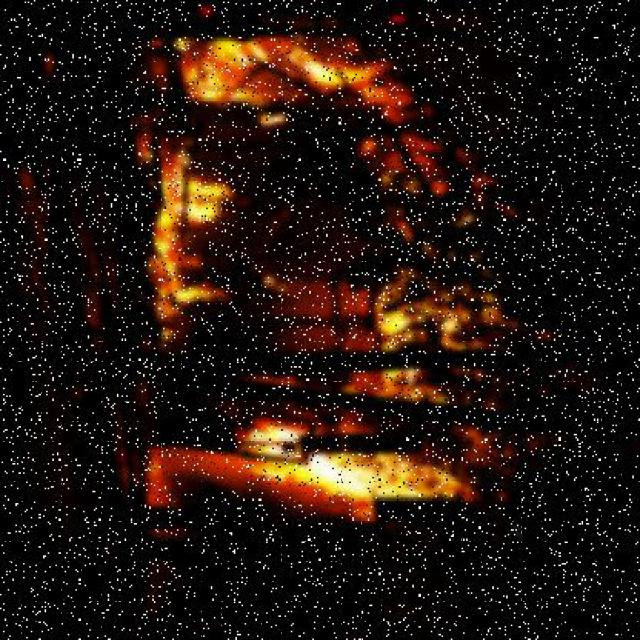fire: (130, 31, 436, 517)
